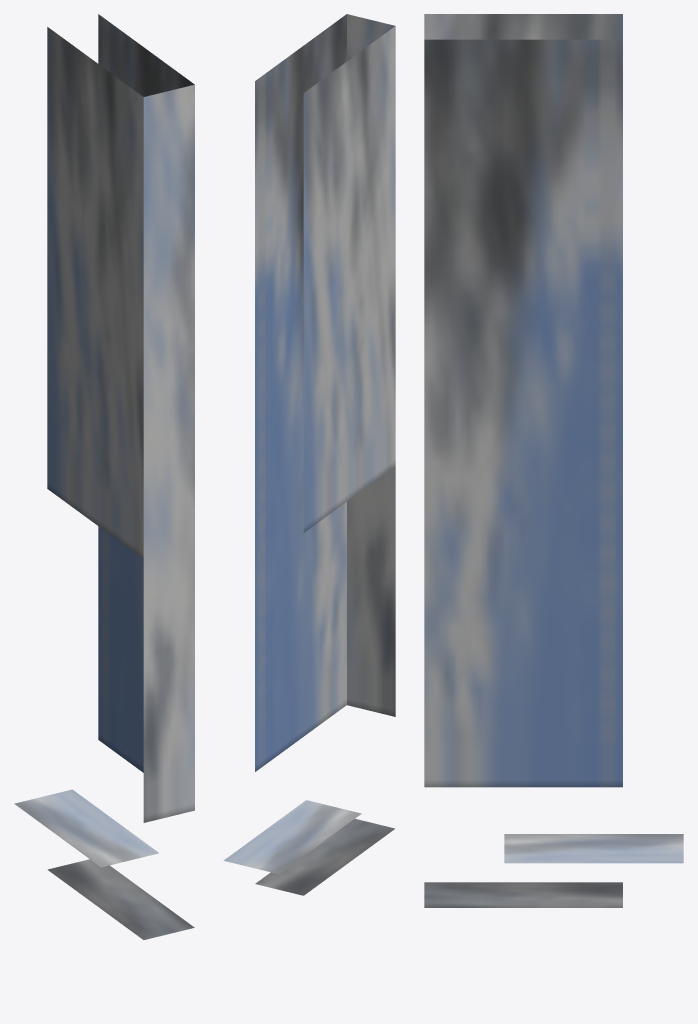
Rendered from section-2.obj.
3 views of the same model, side by side, from view 1: azimuth 30°, elevation 25°; view 2: azimuth 150°, elevation 25°; view 3: azimuth 270°, elevation 25° (orthographic). The views are drawn at different scales.
Bounding box in the file's own units: 0.065 × 1 × 0.243.
